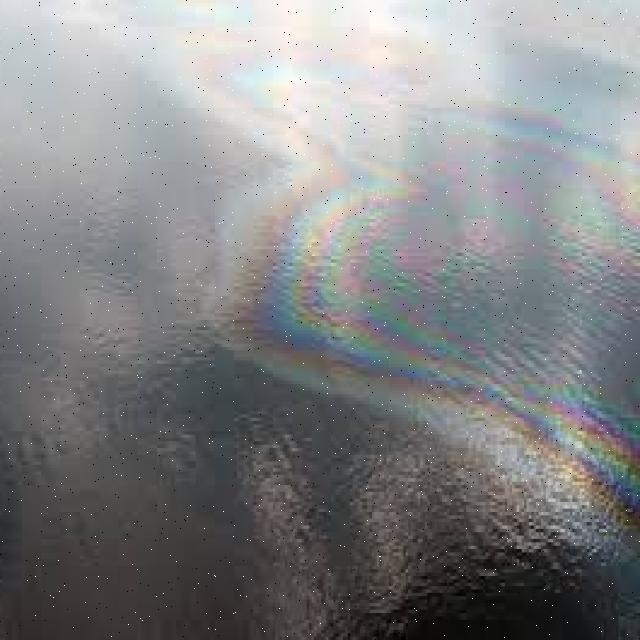oil: (176, 40, 640, 580)
